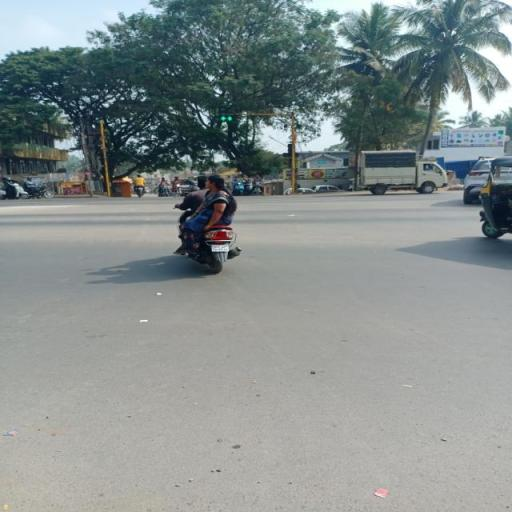bike: (170, 174, 250, 275)
numberplate: (212, 244, 230, 252)
withouthelmet: (206, 174, 224, 190), (197, 176, 207, 190)
